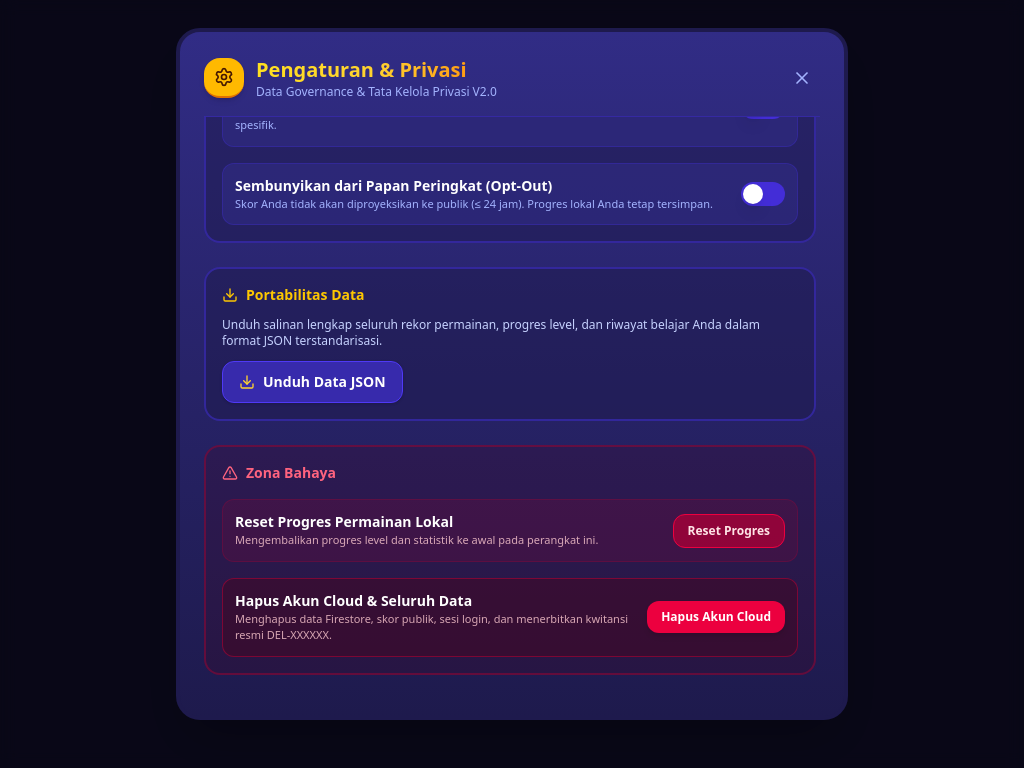
Scenario: SettingsModal component › handles account deletion flow for authenticated user
(page scrolled)
Click the button "Hapus Akun Cloud" at coordinates (716, 617), box [647,601,785,633]
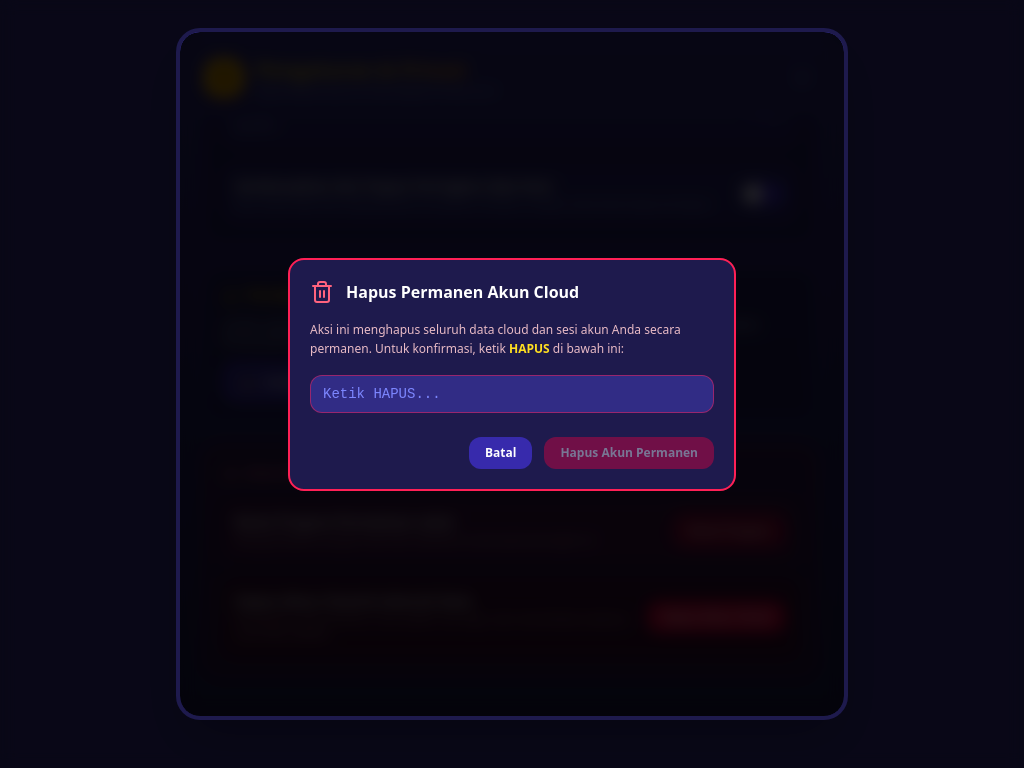
expect the heading "Hapus Permanen Akun Cloud" is shown: met, box [346,280,579,304]
Type "HAPUS" into the field with placeholder "Ketik HAPUS..." at coordinates (512, 394), box [310,374,714,412]
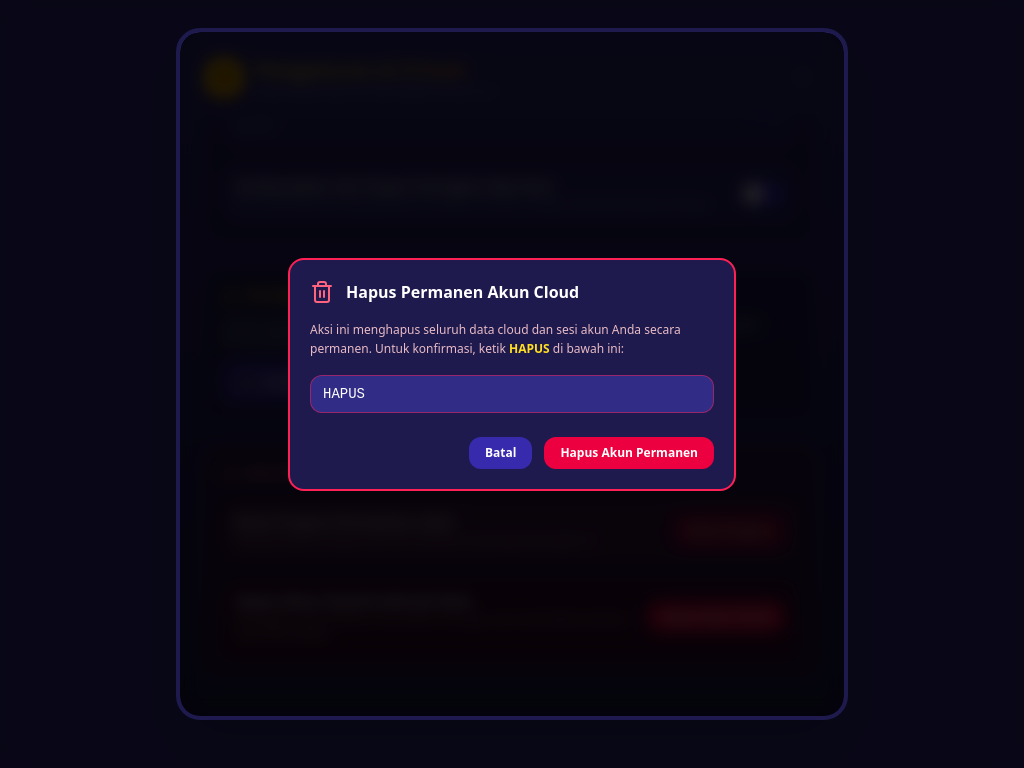
expect the button "Hapus Akun Permanen" is enabled: met
Click the button "Hapus Akun Permanen" at coordinates (629, 452), box [544,436,714,468]
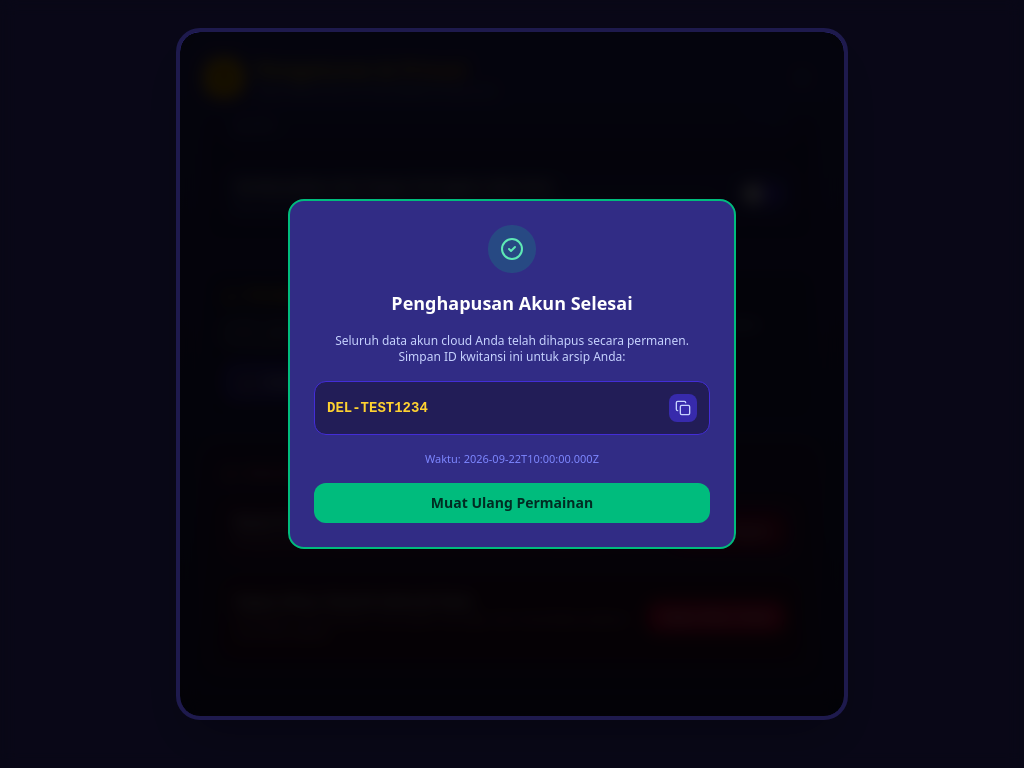
expect the heading "Penghapusan Akun Selesai" is shown: met, box [391,291,633,315]
expect the text "DEL-TEST1234" is shown: met, box [327,398,428,418]
